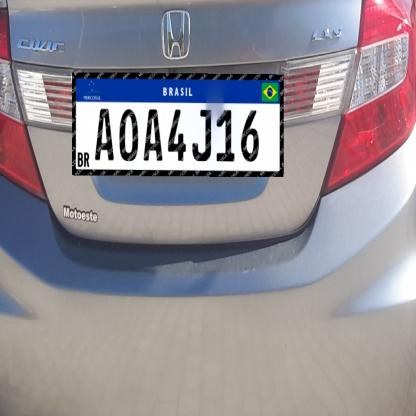PlacaM: (72, 72, 284, 177)
